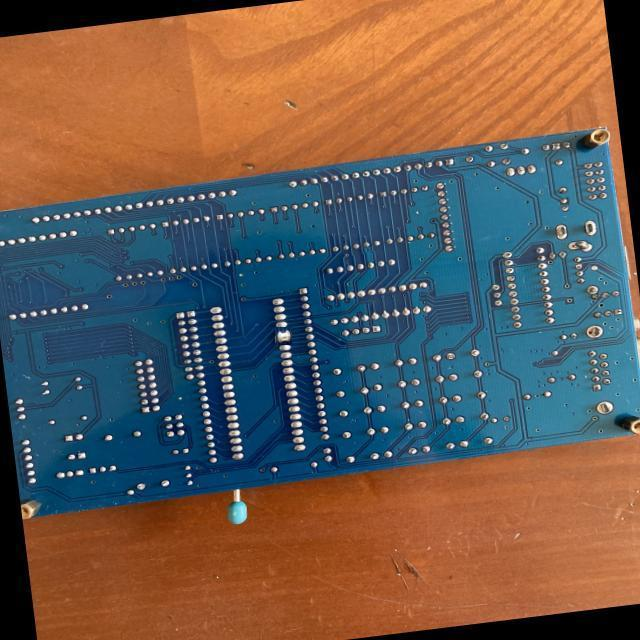damged: (274, 326, 292, 344)
